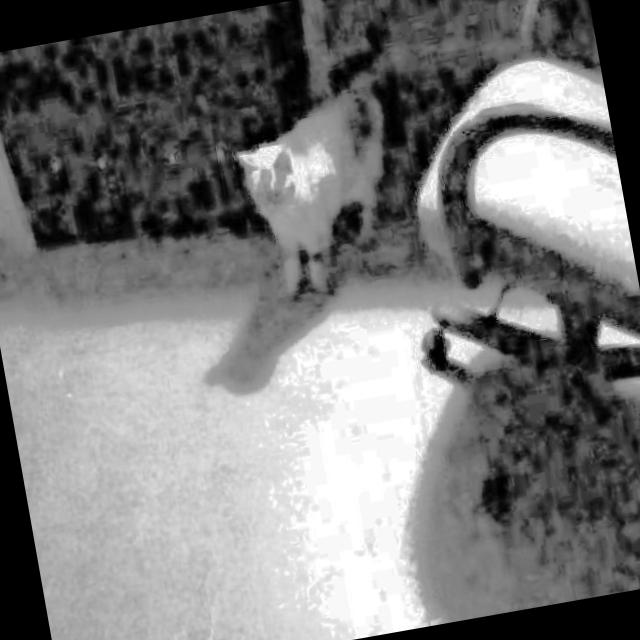Cat: (219, 44, 444, 309)
